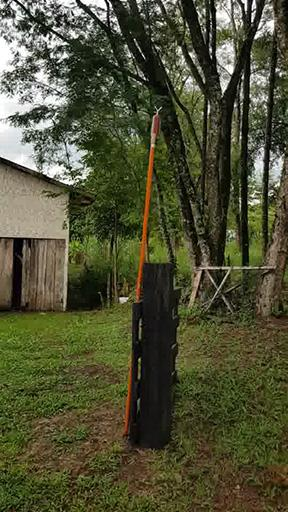Detector_Tensao_Contato: (148, 106, 162, 137)
Vara_Manobra: (124, 135, 155, 436)
